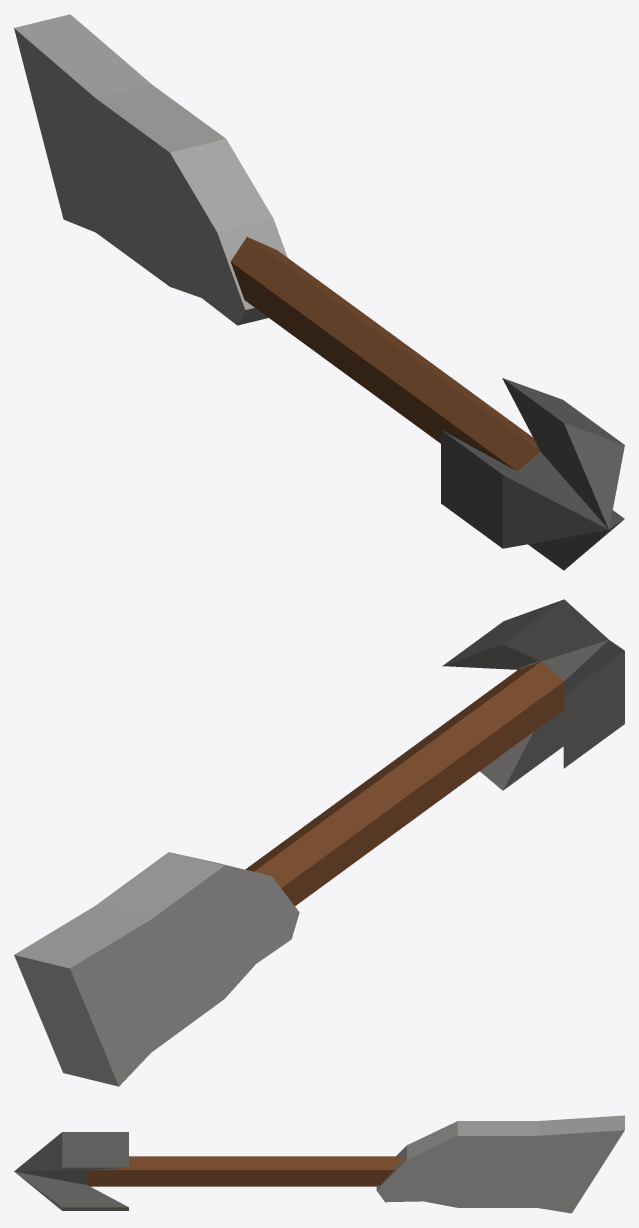
Rendered from arrow.fbx.
3 renders of one model, top to bottom at view 1: azimuth 30°, elevation 25°; view 2: azimuth 150°, elevation 25°; view 3: azimuth 270°, elevation 25°, orthographic. The views are drawn at different scales.
Visible parts, largest first — view 1: Arrow; view 2: Arrow; view 3: Arrow.
Part boxes in pixels (x1,y1,x2,y2): Arrow: (14,14,624,570); Arrow: (14,599,624,1086); Arrow: (14,1115,624,1213).
Bounding box in the file's own units: 0.0256 × 0.0331 × 0.2062.
1 material, 1 textured.
